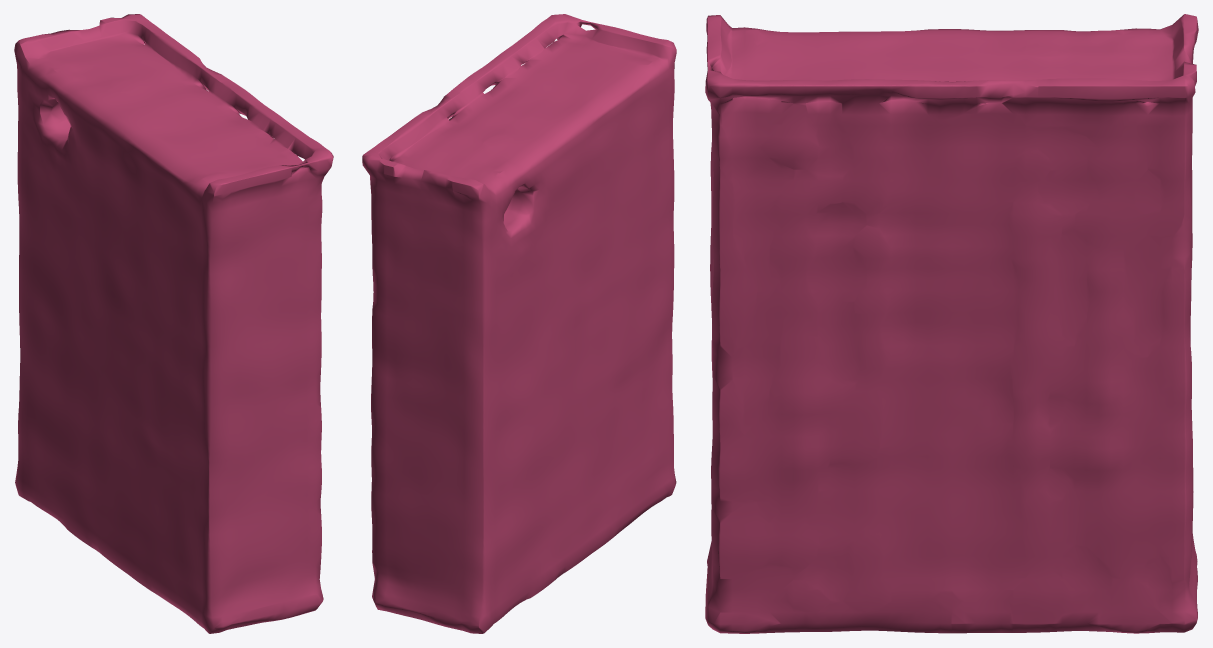
The model's file is wardrobe_13_2.obj.
The picture shows the model from 3 angles, left to right: view 1: azimuth 30°, elevation 25°; view 2: azimuth 150°, elevation 25°; view 3: azimuth 270°, elevation 25°; orthographic projection. The views are drawn at different scales.
Size of the model in its own units: 0.2307 by 0.7947 by 0.6313.
